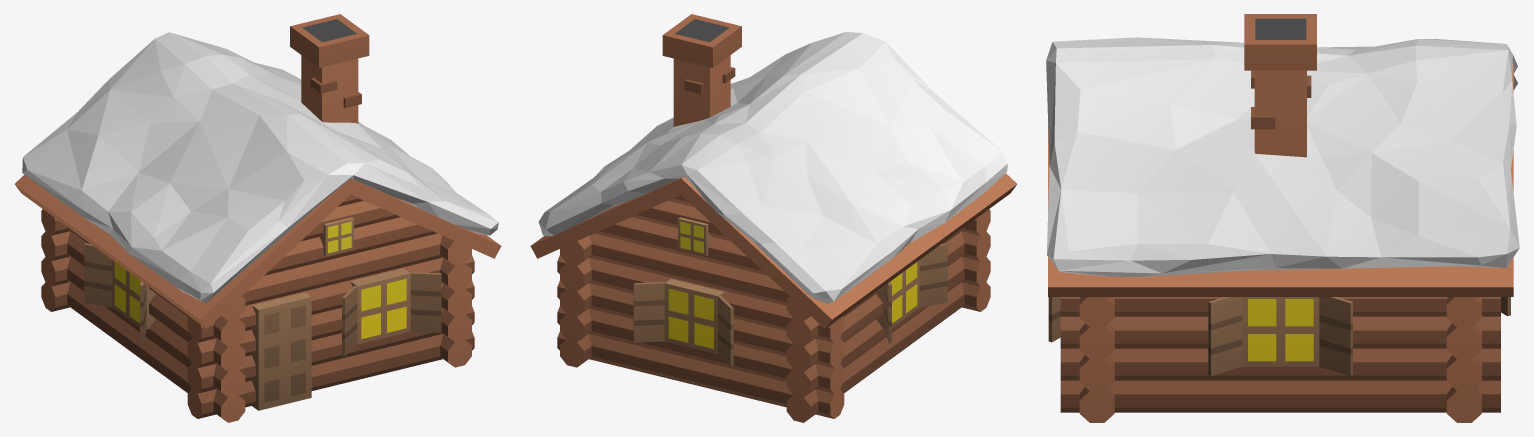
File: wooden winter house.fbx
3 views of the same model, side by side, from view 1: azimuth 30°, elevation 25°; view 2: azimuth 150°, elevation 25°; view 3: azimuth 270°, elevation 25° (orthographic). The views are drawn at different scales.
Visible parts, largest first — view 1: wooden winter house; view 2: wooden winter house; view 3: wooden winter house.
Boxes of the visible parts, <box> form: wooden winter house: <box>14,14,501,422</box>; wooden winter house: <box>530,14,1017,422</box>; wooden winter house: <box>1046,14,1519,422</box>.
Bounding box in the file's own units: 679 × 601 × 729.
